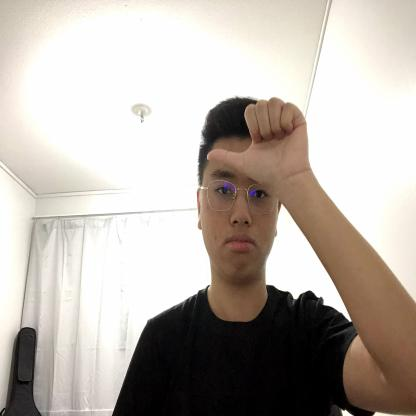right: (206, 96, 309, 196)
